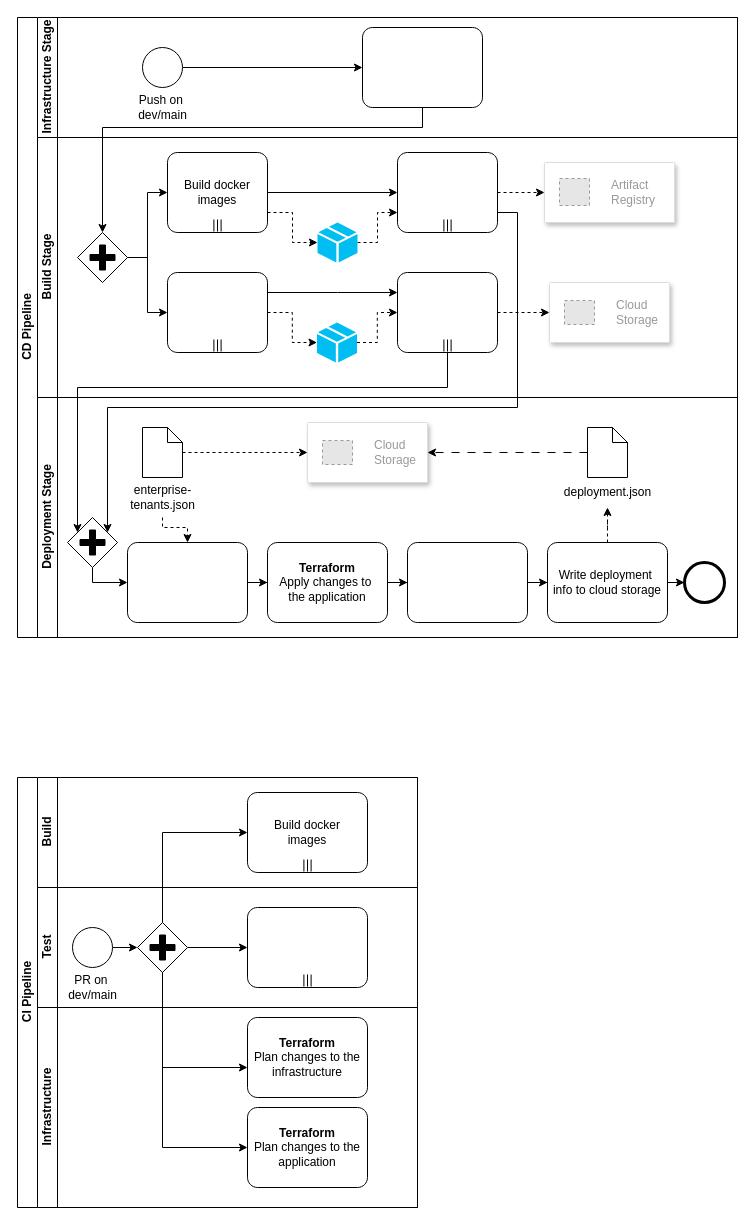
Image size: 755x1225. Some labels were removed from this diagram. Grey dashed boxes stand in for pictures. The shapes that lost their labels are listed below. From the top down, each one's centre as x and y in pixels, then its label:
At point (422, 67): "Terraform Apply changes to the infrastructure".
At point (447, 192): "Push images to artifact registry".
At point (217, 312): "Package cloud functions".
At point (447, 312): "Upload packed function to".
At point (187, 582): "Fetch list of enterprise tenants".
At point (467, 582): "CloudRun Deploy updated management services".
At point (307, 947): "Run unit tests".
